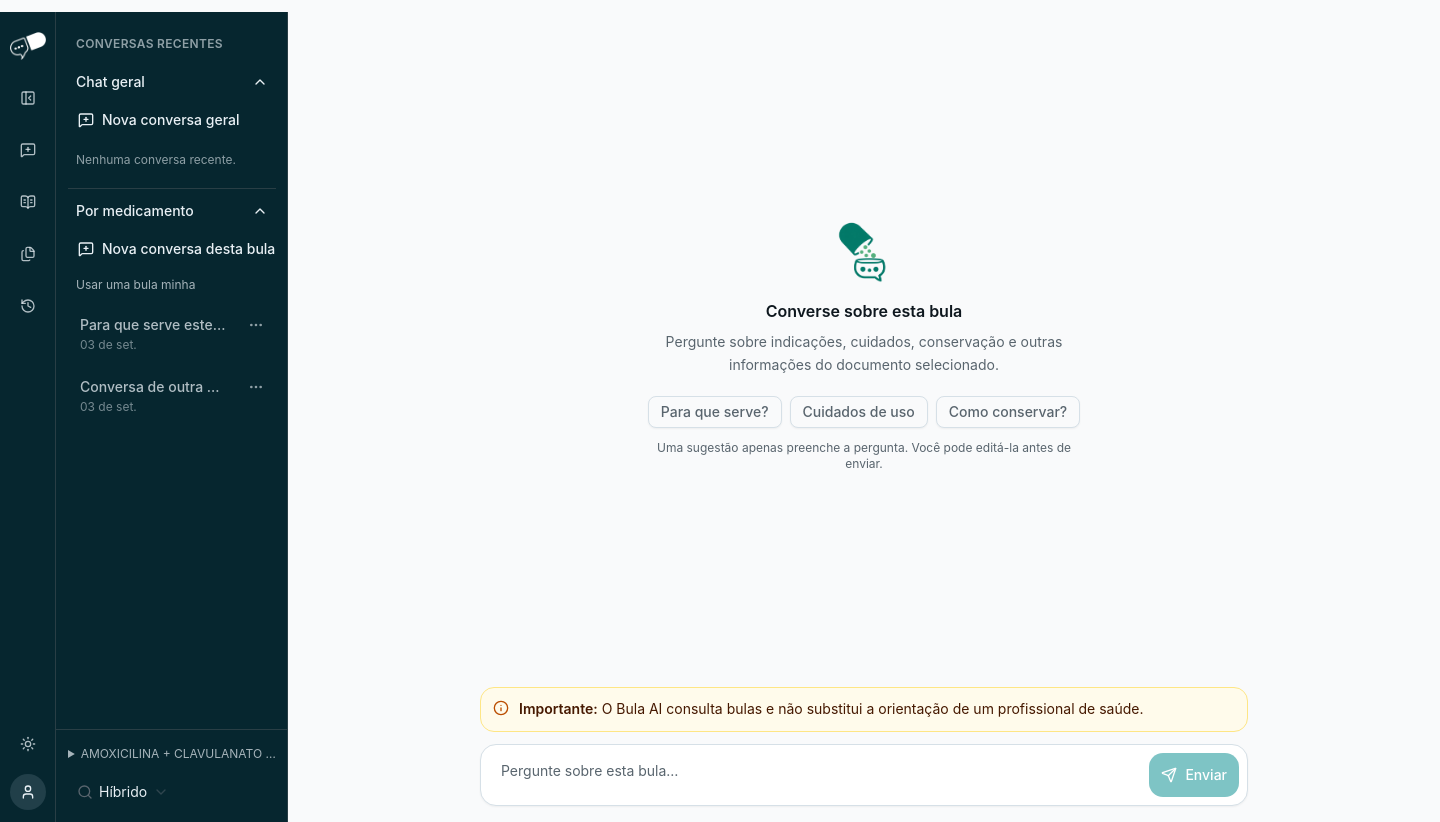
Test: ChatPage › retains catalog filters when returning after creating a conversation
In the text box: coordinates (813, 775) top-left (489, 753), bottom-right (1137, 797), type "Para que serve?"
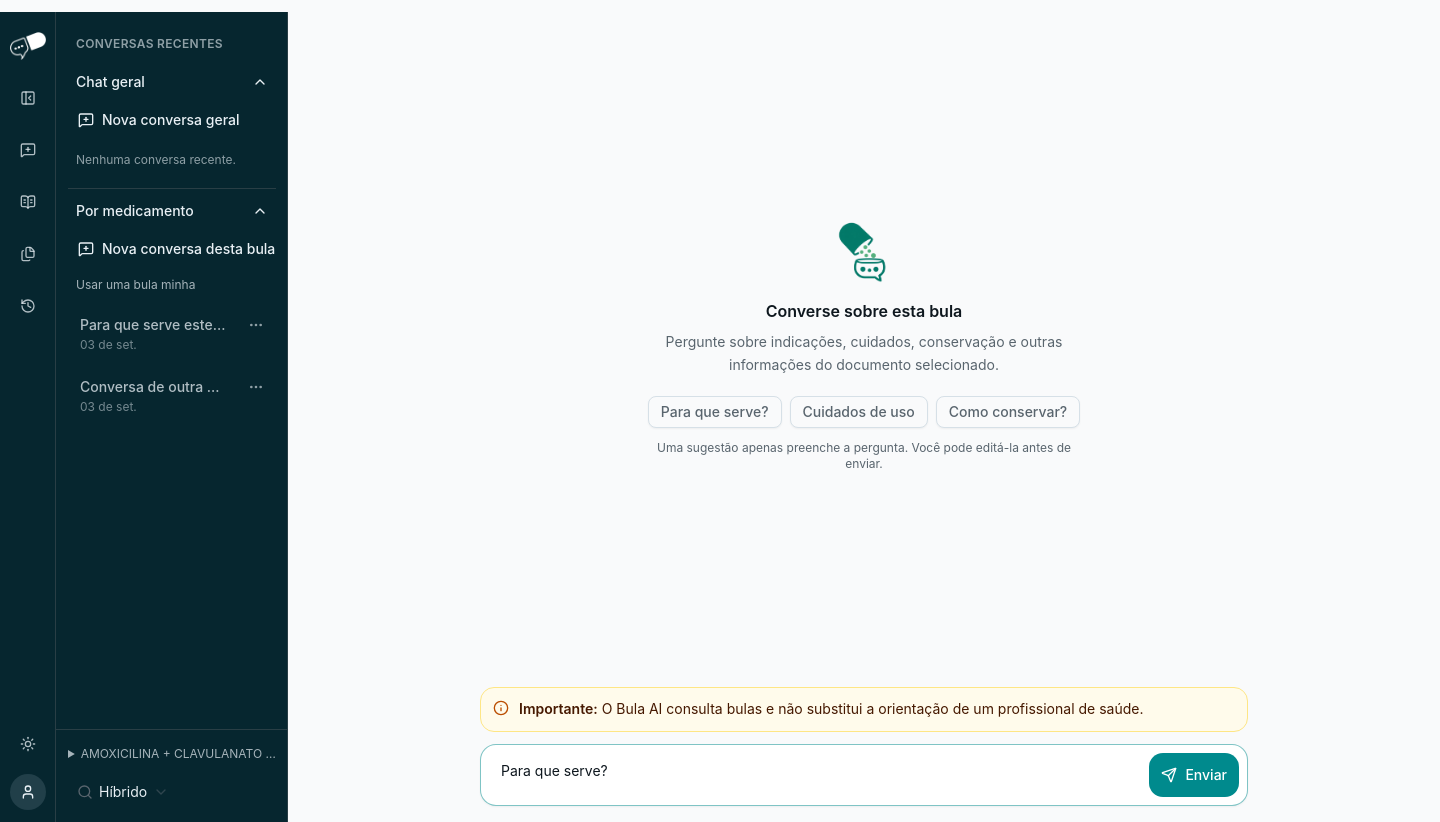
Click the button with aria-label "Enviar pergunta": coordinates (1194, 775) top-left (1149, 753), bottom-right (1239, 797)
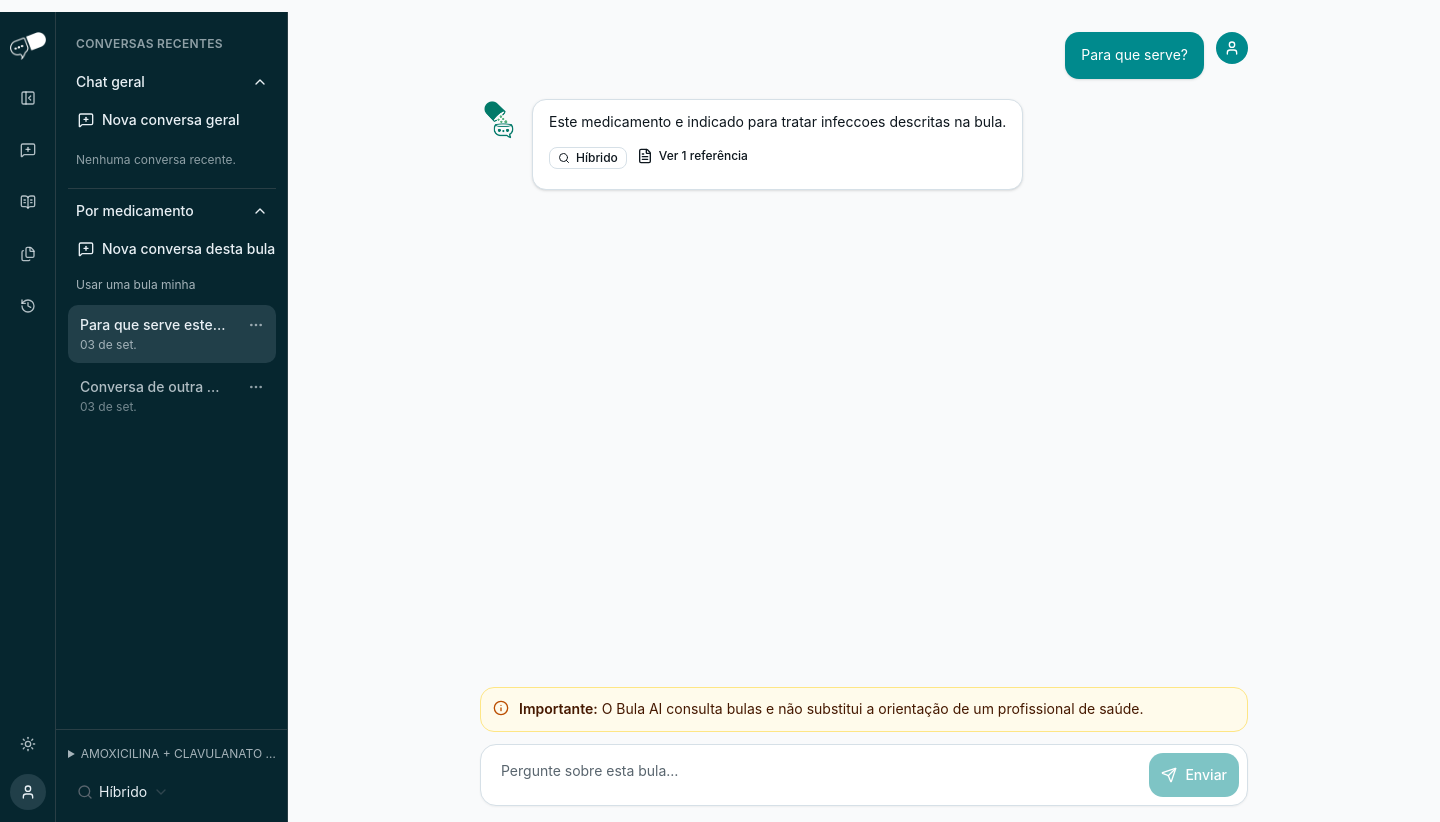
expect the text "Este medicamento e indicado para tratar infeccoes descritas na bula." is shown: met, box top-left (549, 112), bottom-right (1006, 132)
